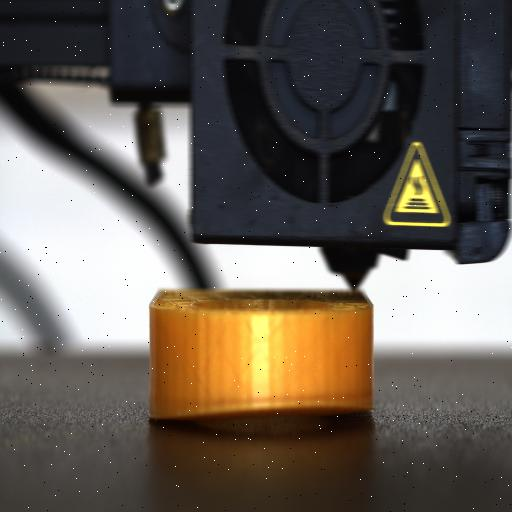warp: (154, 396, 366, 422)
